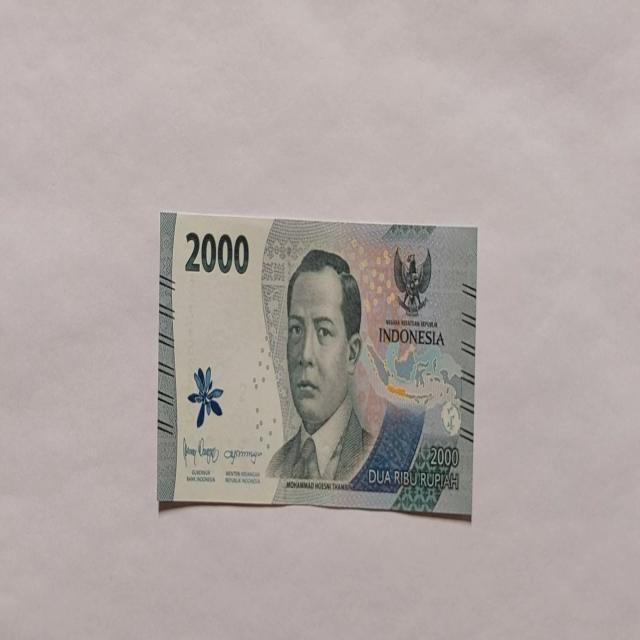dua ribu rupiah: (157, 210, 477, 516), (264, 247, 376, 489)
